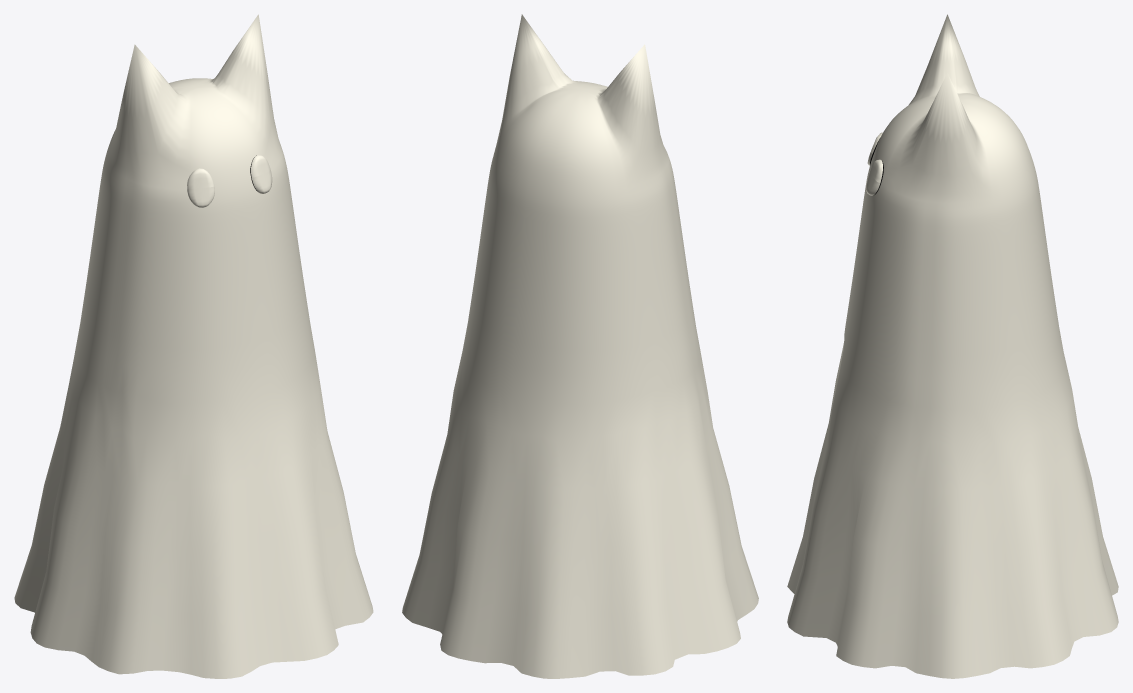
The model's file is Ghost.fbx.
3 views of the same model, side by side, from view 1: azimuth 30°, elevation 25°; view 2: azimuth 150°, elevation 25°; view 3: azimuth 270°, elevation 25° (orthographic). The views are drawn at different scales.
Visible parts, largest first — view 1: Fantasma; view 2: Fantasma; view 3: Fantasma.
Boxes of the visible parts, x1,y1,x2,y2 form: Fantasma: (14,14,373,678); Fantasma: (402,14,758,678); Fantasma: (787,14,1118,678).
Size of the model in its own units: 14.35 by 25.19 by 13.49.
1 material, 1 textured.
